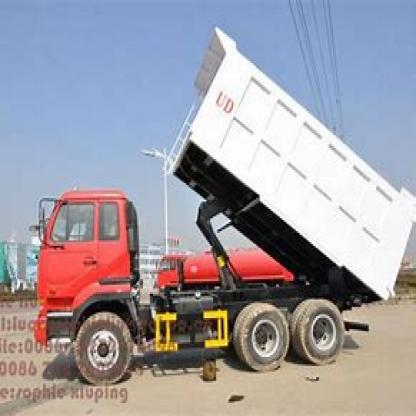dump_truck: (24, 24, 412, 390)
